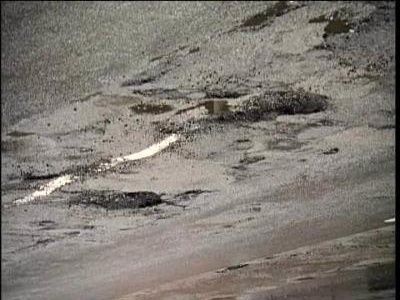pothole: (152, 86, 330, 140), (65, 186, 164, 211), (234, 0, 307, 33), (306, 4, 371, 40)
